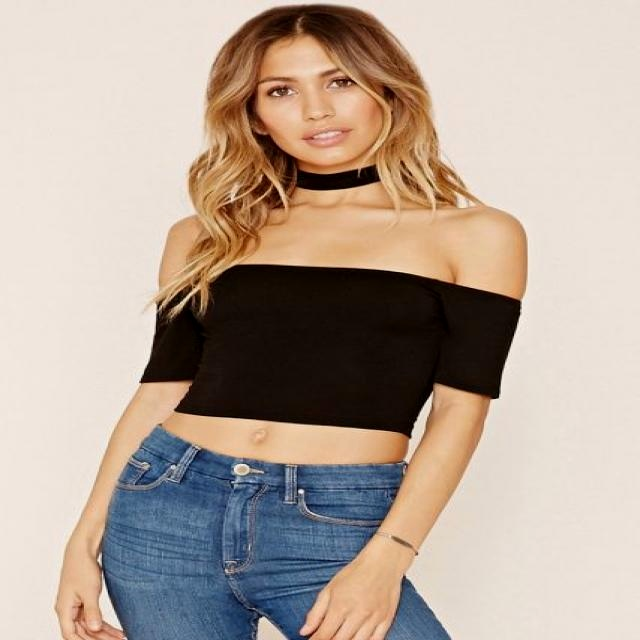Crop_Top: (160, 284, 453, 467)
Sleeveless: (453, 204, 530, 271), (157, 213, 211, 271)
low_neckline: (195, 194, 453, 411)
